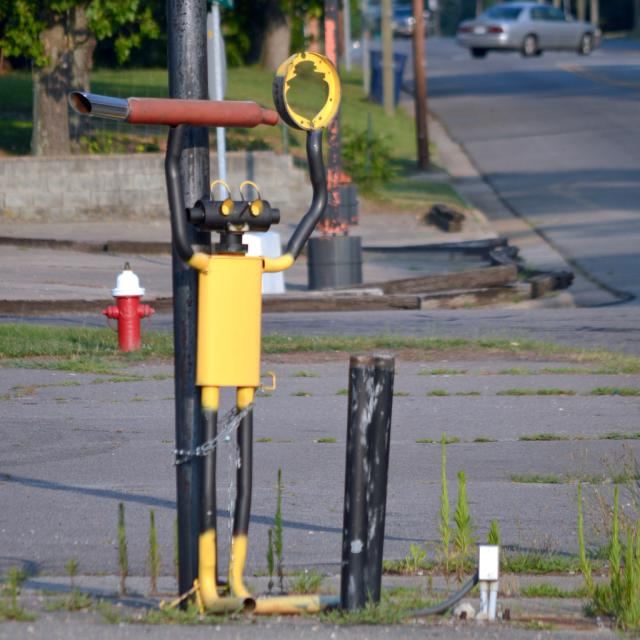fire_hydrant: (101, 262, 158, 352)
